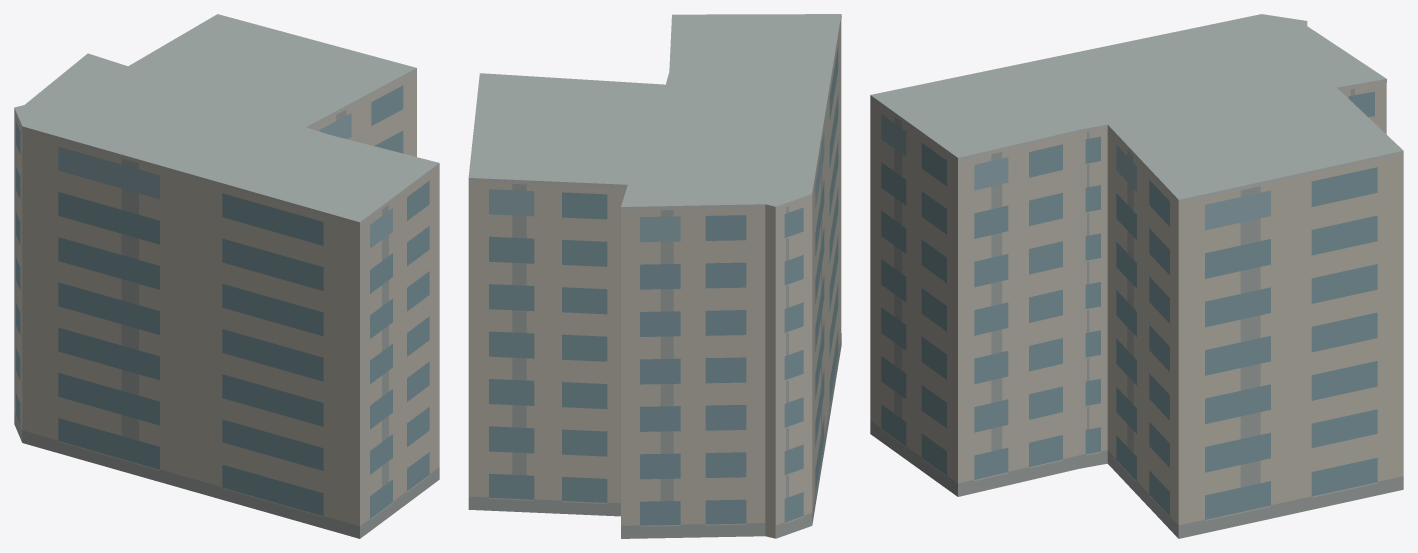
File: survey-upis-32743650.glb
3 renders of one model, left to right at view 1: azimuth 30°, elevation 25°; view 2: azimuth 150°, elevation 25°; view 3: azimuth 270°, elevation 25°, orthographic. The views are drawn at different scales.
Visible parts, largest first — view 1: survey-upis-32743650.tmp; view 2: survey-upis-32743650.tmp; view 3: survey-upis-32743650.tmp.
Part boxes in pixels (<box>): survey-upis-32743650.tmp: <box>14,14,439,538</box>; survey-upis-32743650.tmp: <box>468,14,841,538</box>; survey-upis-32743650.tmp: <box>870,14,1403,538</box>.
Size of the model in its own units: 23.41 by 19.9 by 28.38.
